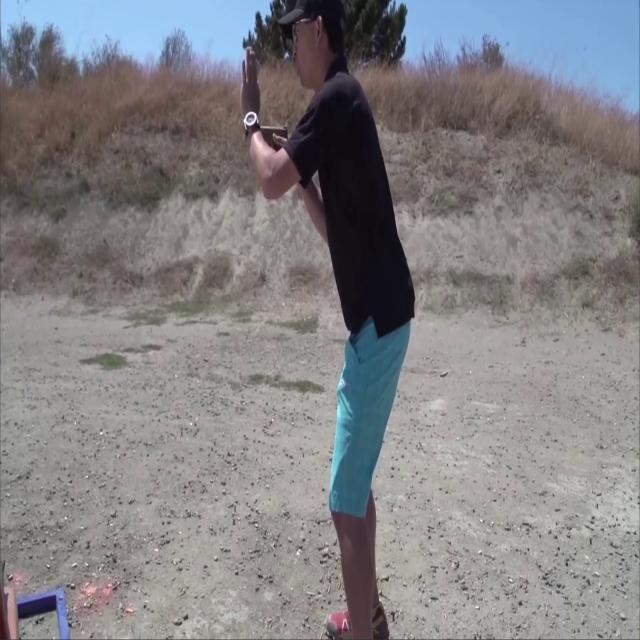gun: (245, 121, 288, 172)
